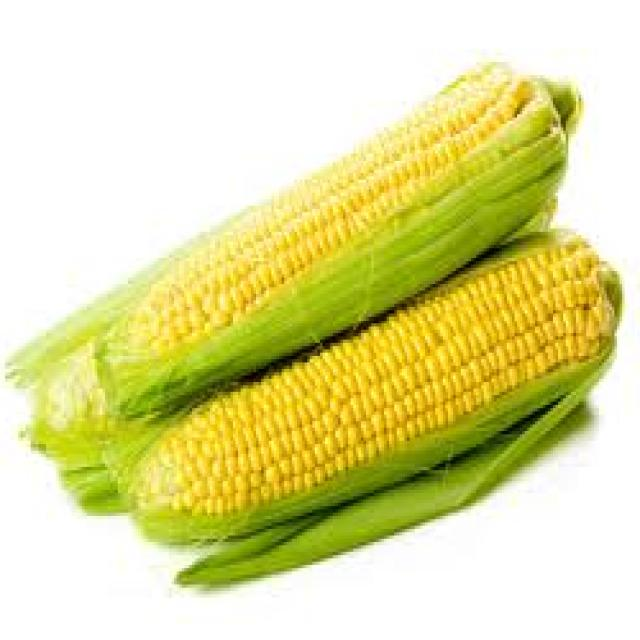corn: (21, 49, 627, 575)
